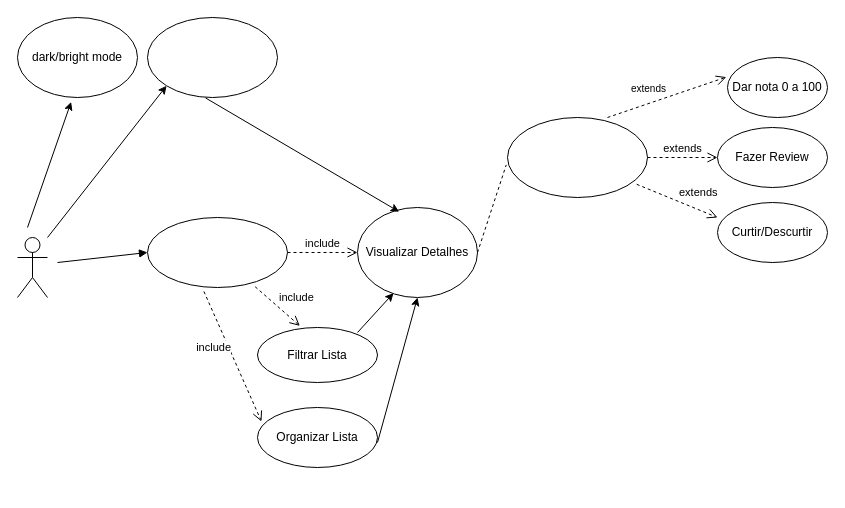
This 845x508 diagram has some shape labels left out. Each missing label, with the centre of its shape:
"Actor" goes at (x=32, y=267).
"Explorar Lista de Filmes" goes at (x=217, y=252).
"Marcar com Assistido" goes at (x=577, y=157).
"Pesquisar Filmes" goes at (x=212, y=57).
